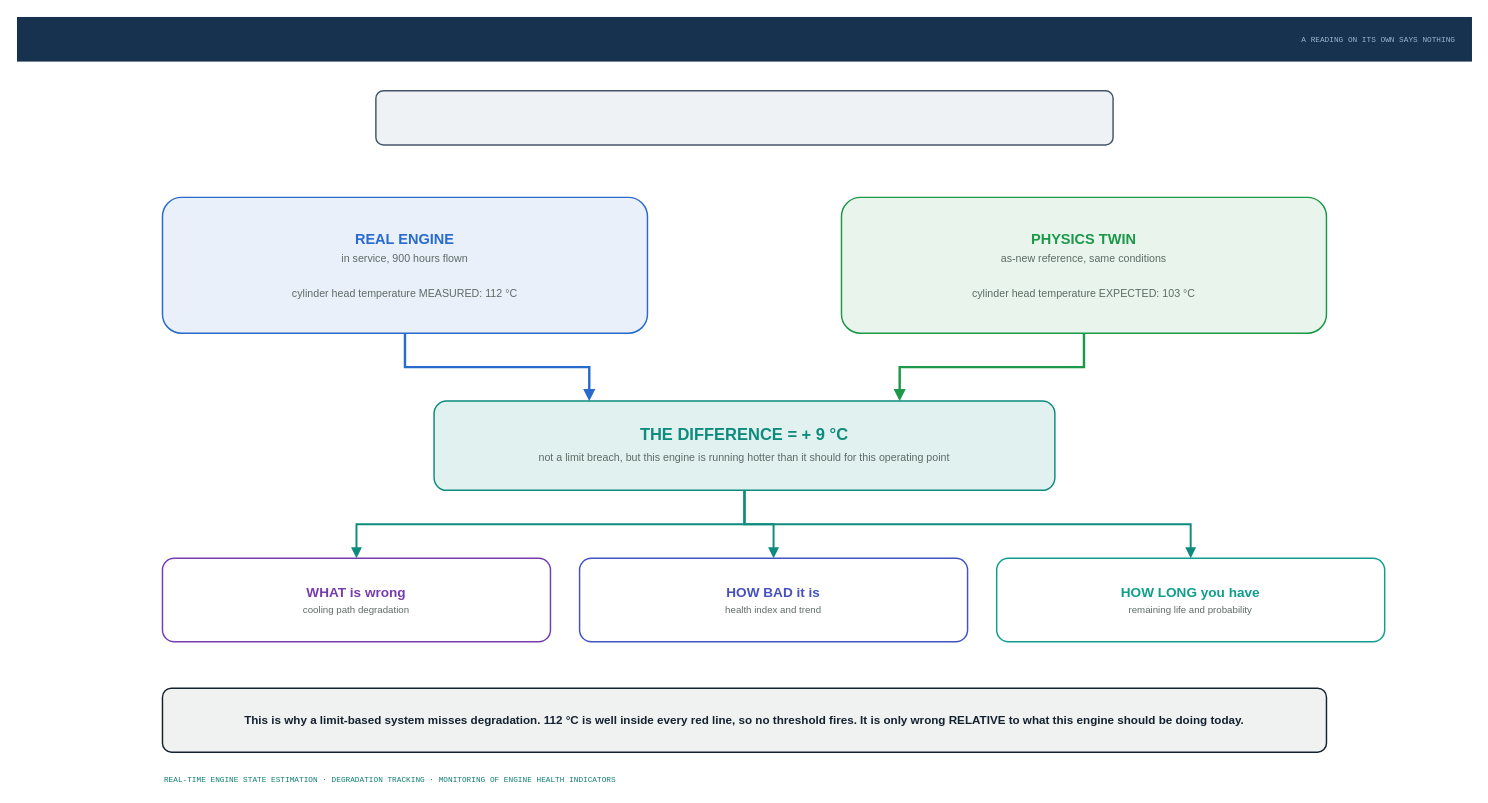
The diagram is 1488 pixels wide and 803 high, and some of its shapes have lost their labels. The box of each missing label's shape, as (x1, y1, x2, y2) in pixels:
HOW HEALTH IS MEASURED — THE RESIDUAL IDEA | PS 26054: (16, 16, 1471, 61)
SAME FLIGHT CONDITIONS throttle · altitude · airspeed · outside air temperature: (375, 90, 1113, 145)
